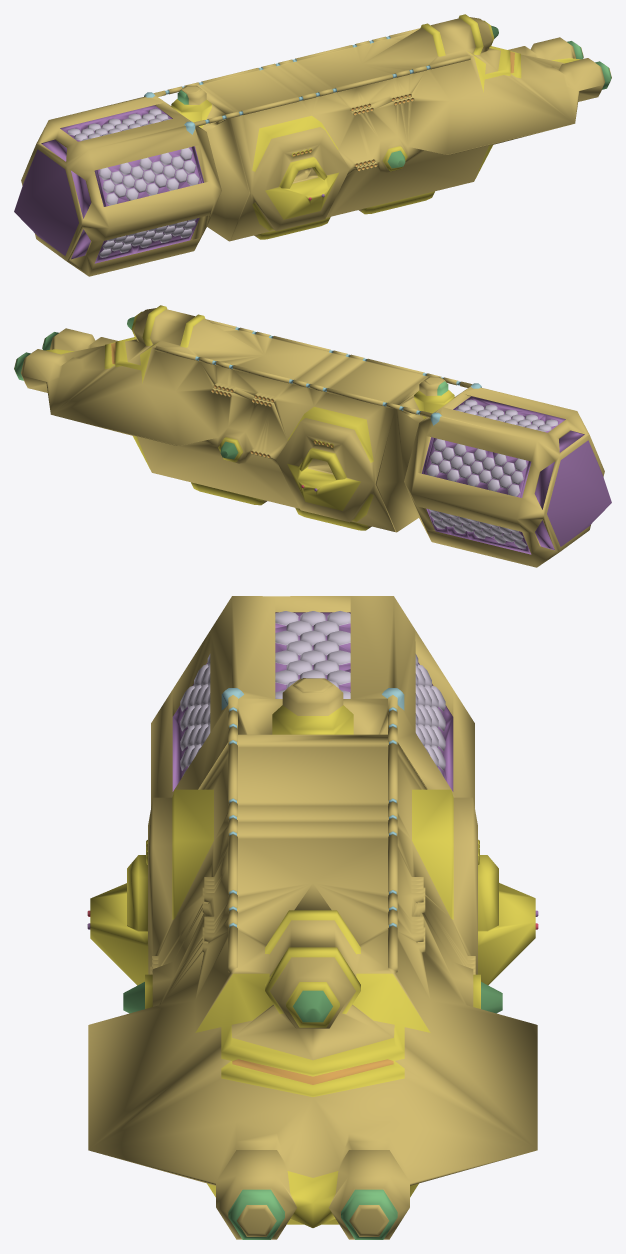
The model's file is vra-feldspar.glb.
3 views of the same model, one above another, from view 1: azimuth 30°, elevation 25°; view 2: azimuth 150°, elevation 25°; view 3: azimuth 270°, elevation 25° (orthographic). The views are drawn at different scales.
Parts seen in each view (by area): view 1: Feldspar current hull - authored COLOR_0 regions; view 2: Feldspar current hull - authored COLOR_0 regions; view 3: Feldspar current hull - authored COLOR_0 regions.
Boxes of the visible parts, x1=… form: Feldspar current hull - authored COLOR_0 regions: x1=14, y1=14, x2=611, y2=276; Feldspar current hull - authored COLOR_0 regions: x1=14, y1=305, x2=611, y2=567; Feldspar current hull - authored COLOR_0 regions: x1=87, y1=596, x2=538, y2=1239.
Bounding box in the file's own units: 7.08 × 1.84 × 2.38.
